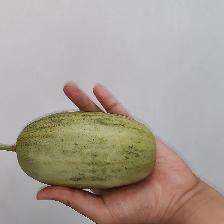gua: (20, 123, 157, 178)
